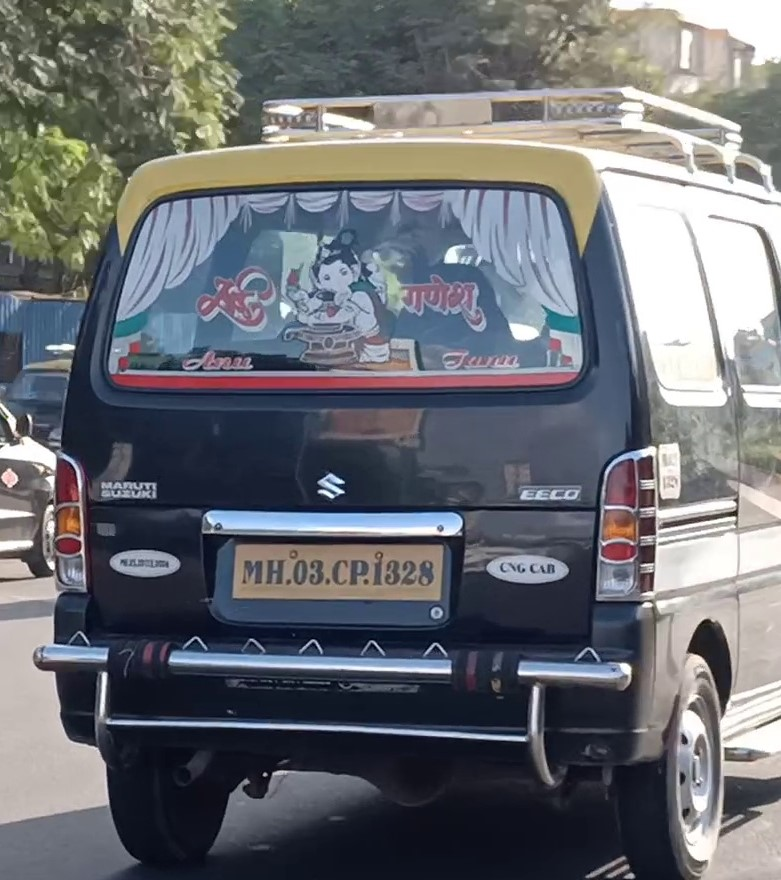MH03CP1328: (231, 543, 445, 601)
